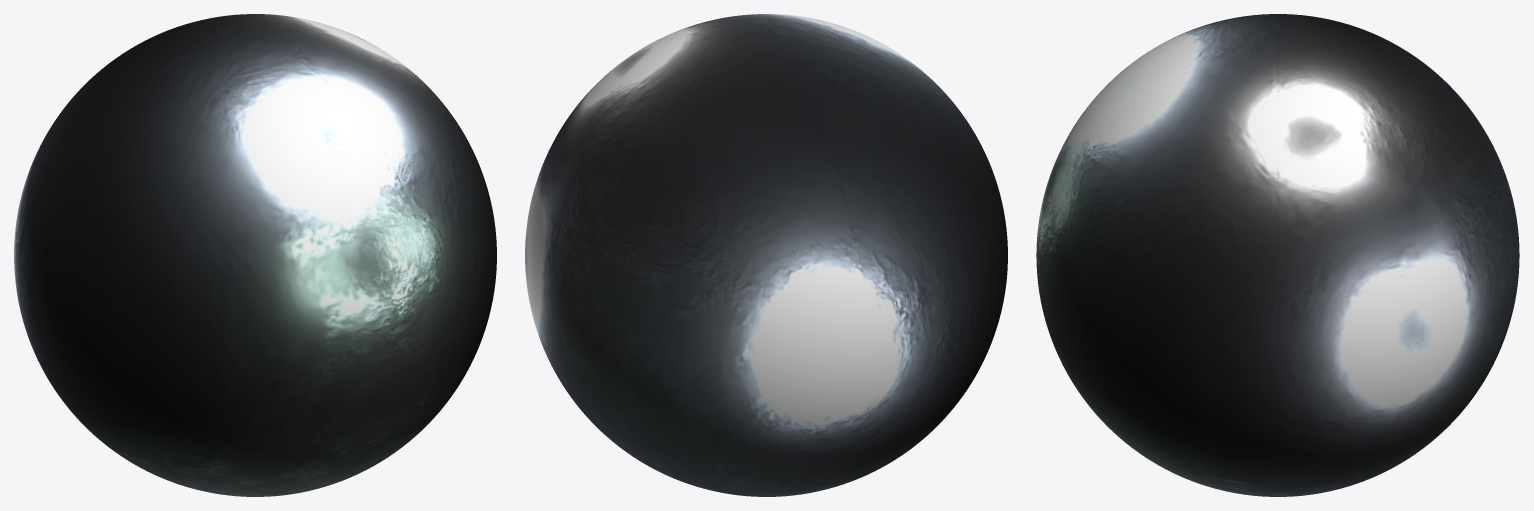
The model's file is studiometal2.glb.
3 renders of one model, left to right at view 1: azimuth 30°, elevation 25°; view 2: azimuth 150°, elevation 25°; view 3: azimuth 270°, elevation 25°, orthographic.
Parts seen in each view (by area): view 1: Icosphere; view 2: Icosphere; view 3: Icosphere.
Part boxes in pixels (x1=…): Icosphere: x1=14, y1=14, x2=496, y2=496; Icosphere: x1=525, y1=14, x2=1007, y2=496; Icosphere: x1=1036, y1=14, x2=1519, y2=496.
Bounding box in the file's own units: 2 × 2 × 2.
Materials: 1 (1 with a texture image).
